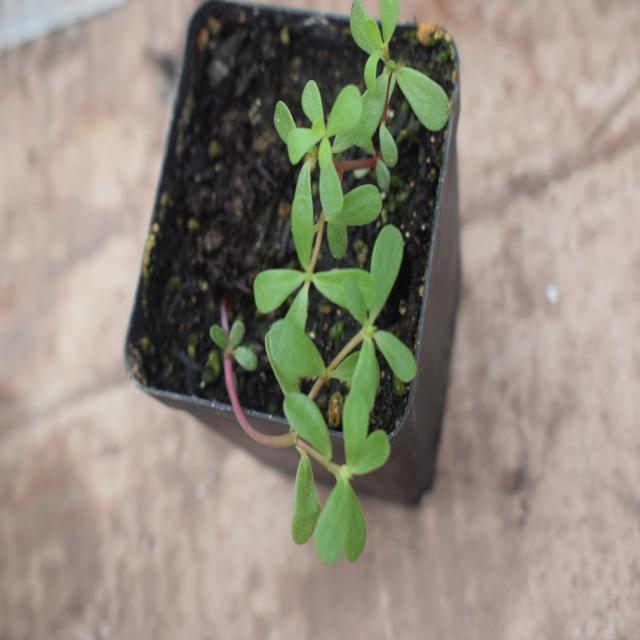purslane: (216, 19, 437, 518)
